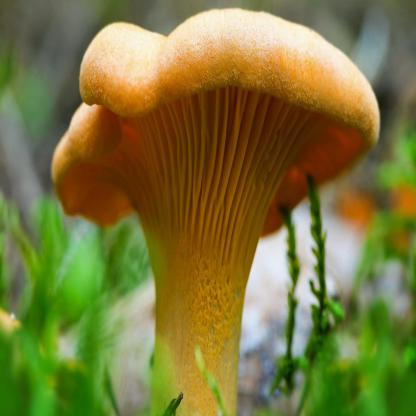chanterelle: (50, 7, 380, 415)
